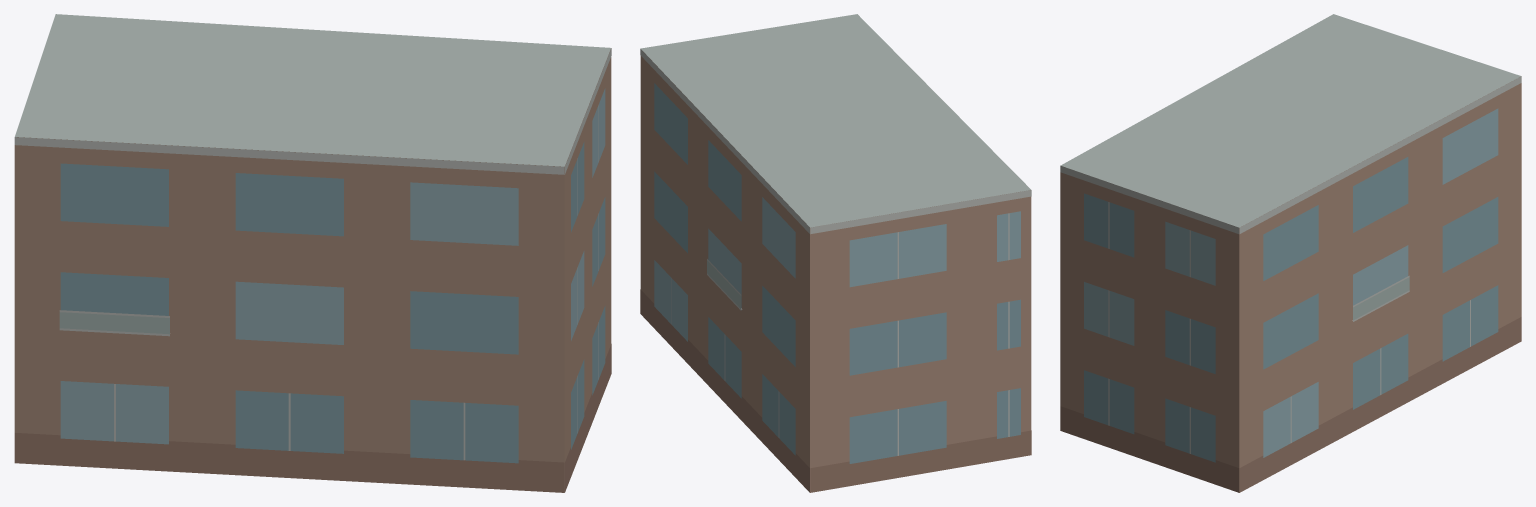
The model's file is survey-upis-32809023.glb.
3 renders of one model, left to right at view 1: azimuth 30°, elevation 25°; view 2: azimuth 150°, elevation 25°; view 3: azimuth 270°, elevation 25°, orthographic. The views are drawn at different scales.
Parts seen in each view (by area): view 1: survey-upis-32809023.tmp; view 2: survey-upis-32809023.tmp; view 3: survey-upis-32809023.tmp.
Part boxes in pixels (<box>): survey-upis-32809023.tmp: <box>14,14,611,492</box>; survey-upis-32809023.tmp: <box>640,14,1031,492</box>; survey-upis-32809023.tmp: <box>1060,14,1521,492</box>.
Bounding box in the file's own units: 16.77 × 9.7 × 15.3.
